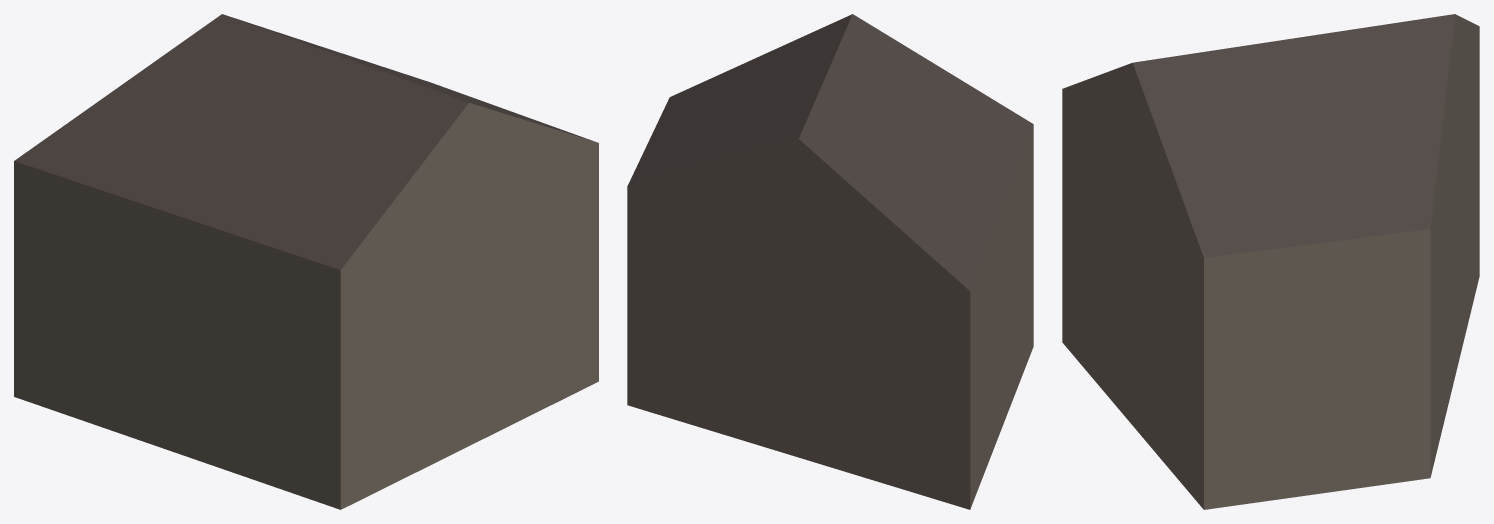
The picture shows the model from 3 angles, left to right: view 1: azimuth 30°, elevation 25°; view 2: azimuth 150°, elevation 25°; view 3: azimuth 270°, elevation 25°; orthographic projection. The views are drawn at different scales.
Parts seen in each view (by area): view 1: HP-w1197562476; view 2: HP-w1197562476; view 3: HP-w1197562476.
Part boxes in pixels (box(x1,y1,x2,y2)): HP-w1197562476: box(14, 14, 598, 509); HP-w1197562476: box(627, 14, 1033, 509); HP-w1197562476: box(1062, 14, 1479, 509).
Bounding box in the file's own units: 12.1 × 8.74 × 9.11.
